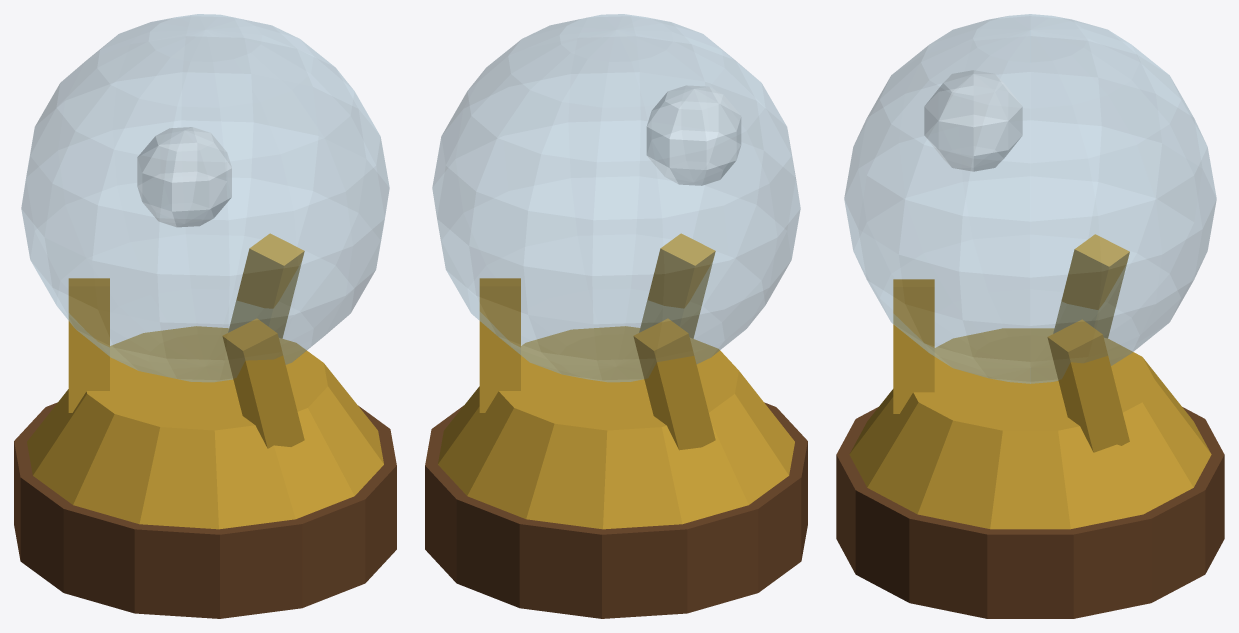
Rendered from crystal_ball.glb.
The picture shows the model from 3 angles, left to right: view 1: azimuth 30°, elevation 25°; view 2: azimuth 150°, elevation 25°; view 3: azimuth 270°, elevation 25°; orthographic projection.
Visible parts, largest first — view 1: crystal_ball; view 2: crystal_ball; view 3: crystal_ball.
Boxes of the visible parts, box(x1,y1,x2,y2) form: crystal_ball: box(14, 14, 396, 618); crystal_ball: box(425, 14, 807, 618); crystal_ball: box(836, 14, 1224, 618).
Size of the model in its own units: 0.1462 by 0.217 by 0.15.
